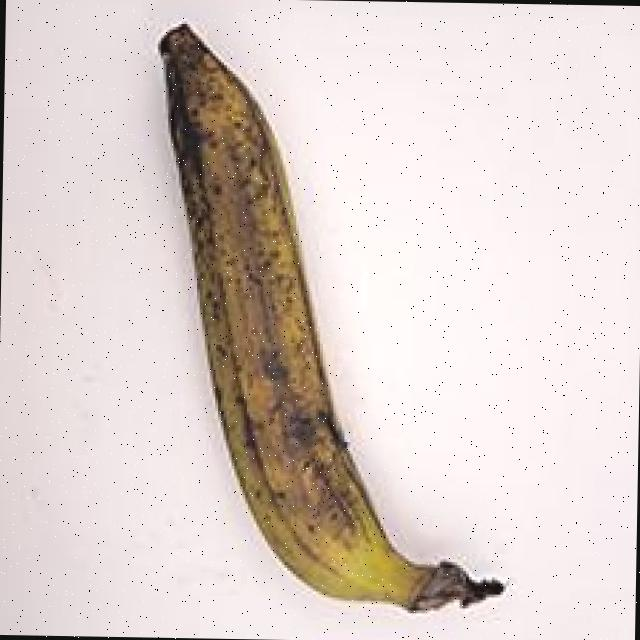Overripe: (120, 9, 532, 636)
